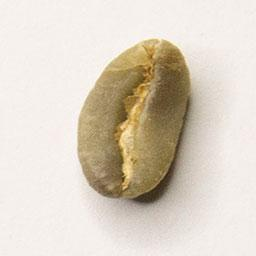longberry: (73, 37, 193, 200)
